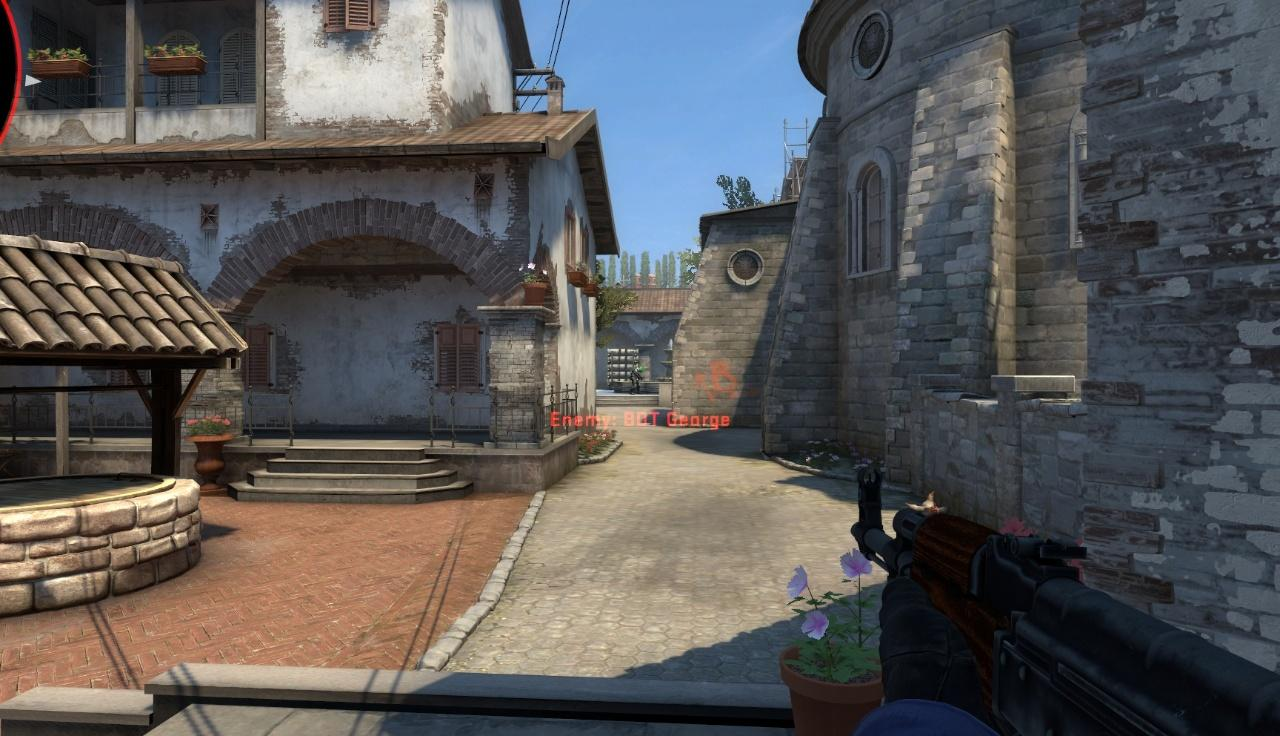ct: (630, 367, 642, 396)
rifle: (853, 461, 1280, 736)
